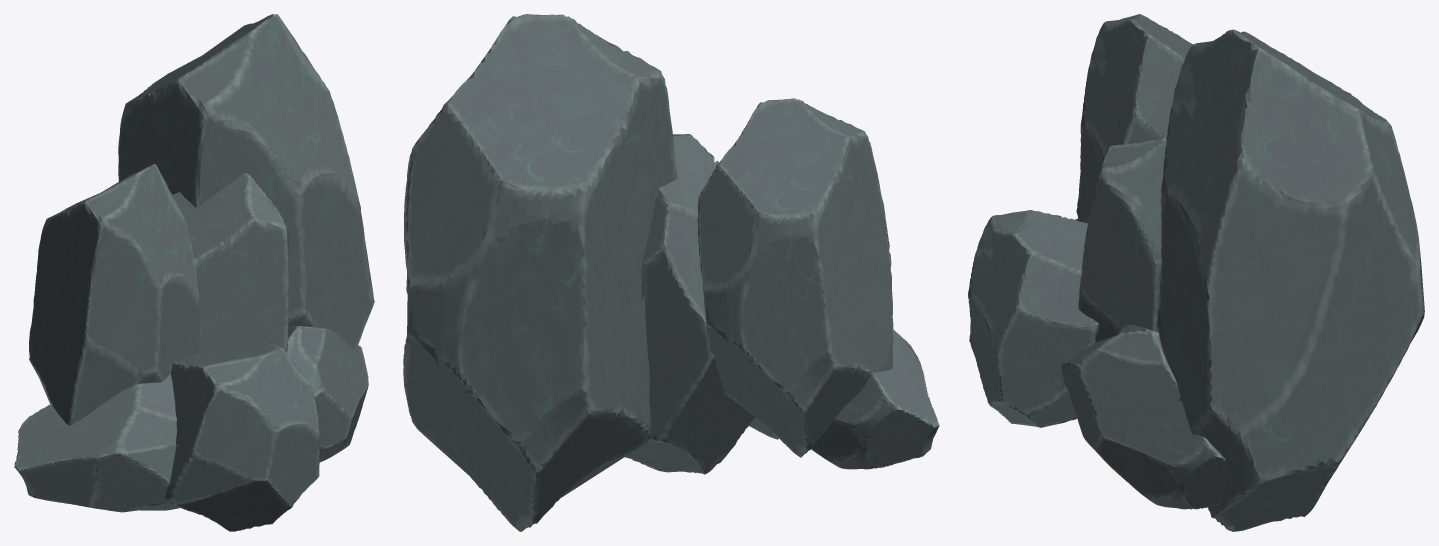
Rendered from rock.fbx.
3 renders of one model, left to right at view 1: azimuth 30°, elevation 25°; view 2: azimuth 150°, elevation 25°; view 3: azimuth 270°, elevation 25°, orthographic. The views are drawn at different scales.
Parts seen in each view (by area): view 1: rock; view 2: rock; view 3: rock.
Boxes of the visible parts, <box> form: rock: <box>14,14,374,531</box>; rock: <box>403,14,939,531</box>; rock: <box>968,14,1424,531</box>.
Size of the model in its own units: 211 by 225 by 190.
